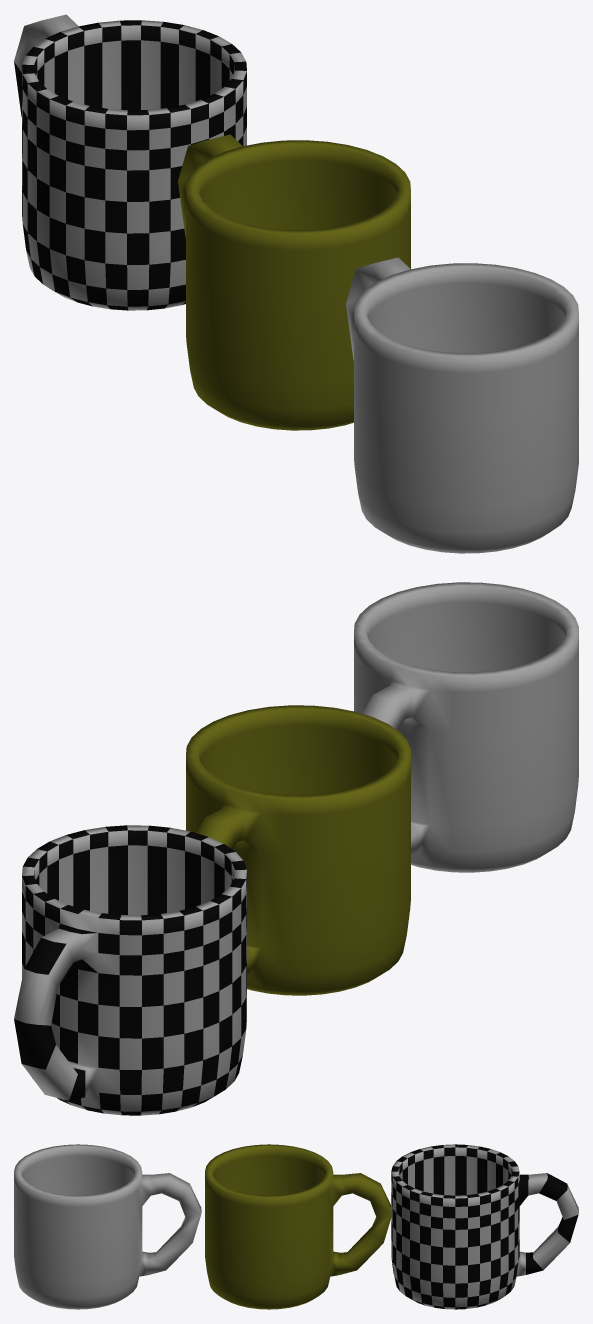
Rendered from uploads_files_2727432_mug.glb.
3 views of the same model, one above another, from view 1: azimuth 30°, elevation 25°; view 2: azimuth 150°, elevation 25°; view 3: azimuth 270°, elevation 25° (orthographic). The views are drawn at different scales.
Parts seen in each view (by area): view 1: Circle, Circle.002, Circle.001; view 2: Circle.001, Circle, Circle.002; view 3: Circle.001, Circle, Circle.002.
Boxes of the visible parts, bbox=[...] form: Circle: bbox=[346, 257, 578, 553]; Circle.002: bbox=[178, 134, 410, 430]; Circle.001: bbox=[14, 14, 246, 310]; Circle.001: bbox=[14, 825, 246, 1115]; Circle: bbox=[354, 582, 578, 872]; Circle.002: bbox=[186, 705, 410, 995]; Circle.001: bbox=[391, 1144, 578, 1309]; Circle: bbox=[14, 1144, 201, 1309]; Circle.002: bbox=[205, 1144, 391, 1309].
Size of the model in its own units: 1.5 by 1.49 by 6.6.
